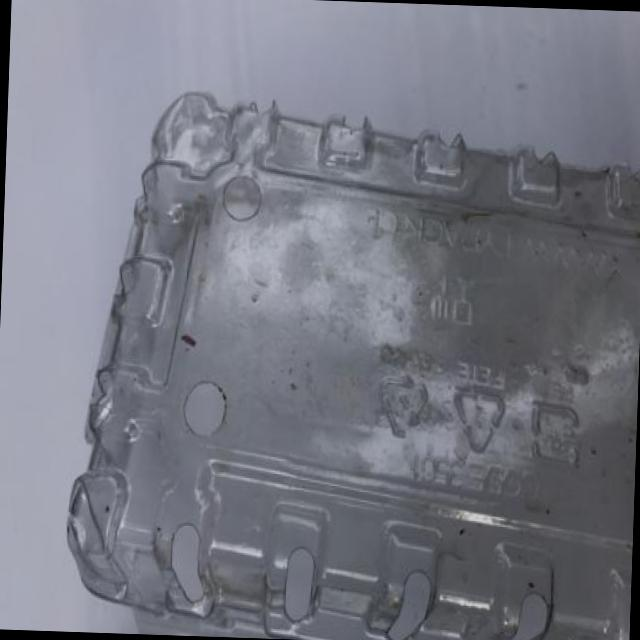Recycle: (63, 88, 640, 640)
